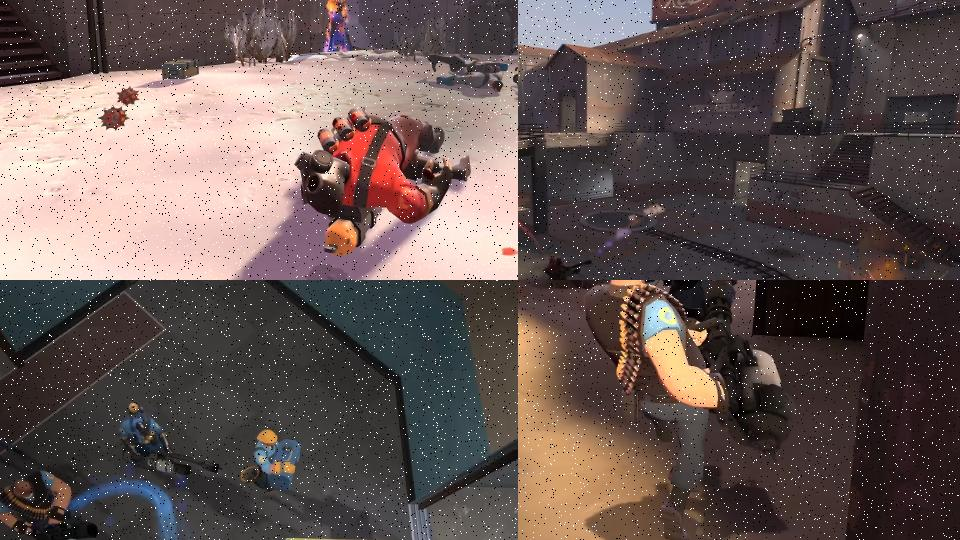Enemy: (575, 280, 792, 511), (293, 106, 472, 256), (113, 397, 222, 489), (0, 462, 101, 540), (243, 424, 309, 503), (428, 52, 508, 94), (664, 280, 753, 307), (0, 391, 32, 466), (538, 255, 594, 280), (326, 0, 348, 52)
